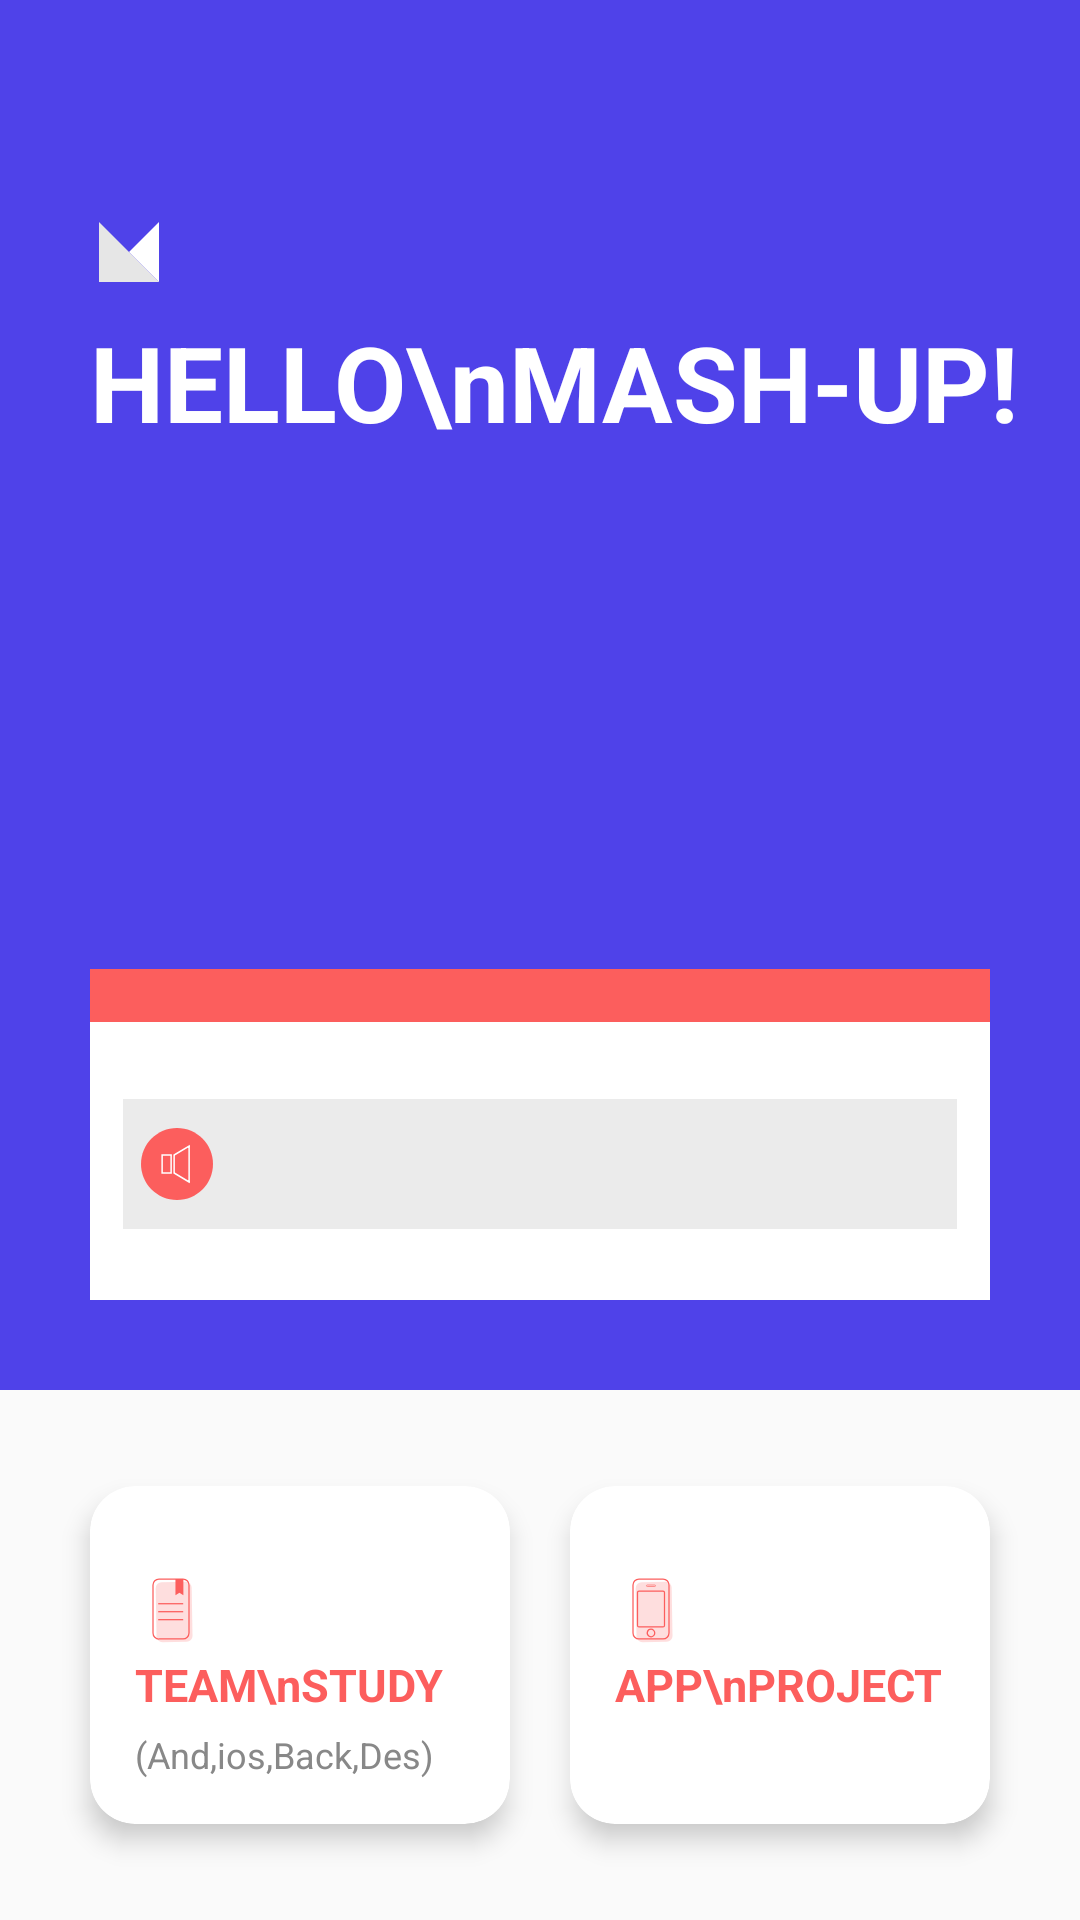

Point at icon controls on the screen. Image size 1080 x 1920, points as (x,y).
home phone: (652,1610)
home speak: (177,1164)
